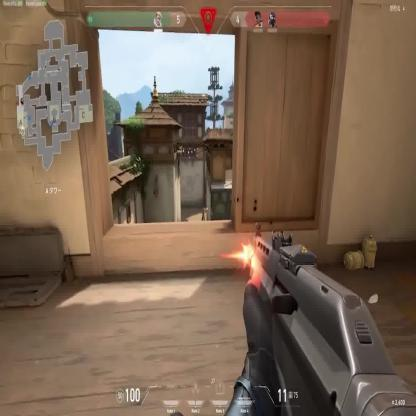enemy: (201, 208, 205, 222)
enemy_head: (202, 207, 205, 211)
